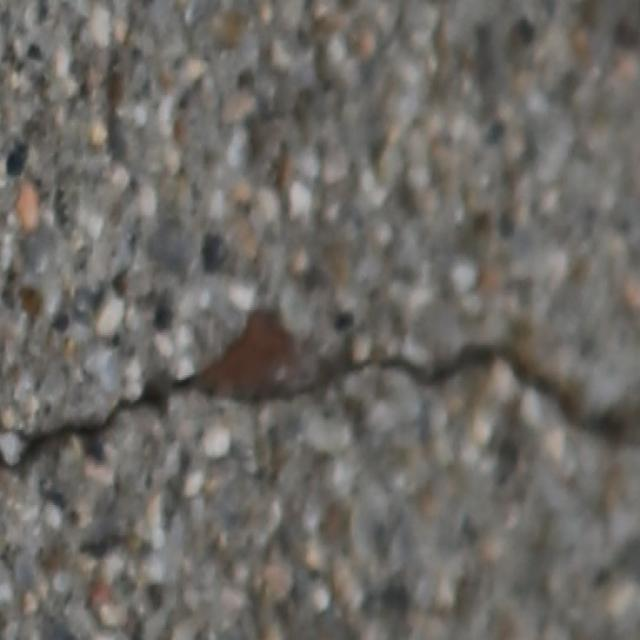crack: (2, 308, 638, 482)
